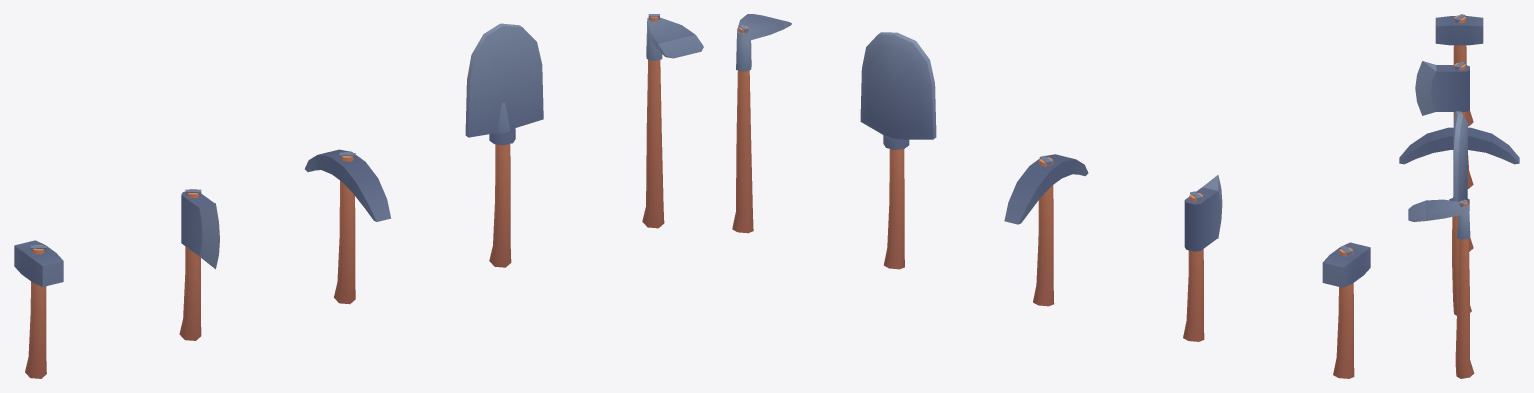
File: basic-tools.glb
3 renders of one model, left to right at view 1: azimuth 30°, elevation 25°; view 2: azimuth 150°, elevation 25°; view 3: azimuth 270°, elevation 25°, orthographic. The views are drawn at different scales.
Visible parts, largest first — view 1: shovel, pickaxe, hoe, axe, hammer; view 2: shovel, pickaxe, hoe, axe, hammer; view 3: hoe, axe, pickaxe, shovel, hammer.
Boxes of the visible parts, left/top/right/bottom form: shovel: left=465, top=23, right=543, bottom=267; pickaxe: left=305, top=149, right=391, bottom=304; hoe: left=642, top=14, right=703, bottom=228; axe: left=179, top=189, right=219, bottom=340; hammer: left=14, top=240, right=63, bottom=378; shovel: left=860, top=32, right=936, bottom=269; pickaxe: left=1004, top=154, right=1088, bottom=306; hoe: left=732, top=14, right=791, bottom=233; axe: left=1183, top=175, right=1222, bottom=341; hammer: left=1322, top=242, right=1370, bottom=378; hoe: left=1408, top=199, right=1474, bottom=378; axe: left=1415, top=61, right=1473, bottom=188; pickaxe: left=1399, top=127, right=1519, bottom=251; shovel: left=1449, top=111, right=1471, bottom=315; hammer: left=1435, top=14, right=1483, bottom=126.
Size of the model in its own units: 4.2 by 1.49 by 0.812.
1 material, 1 textured.
